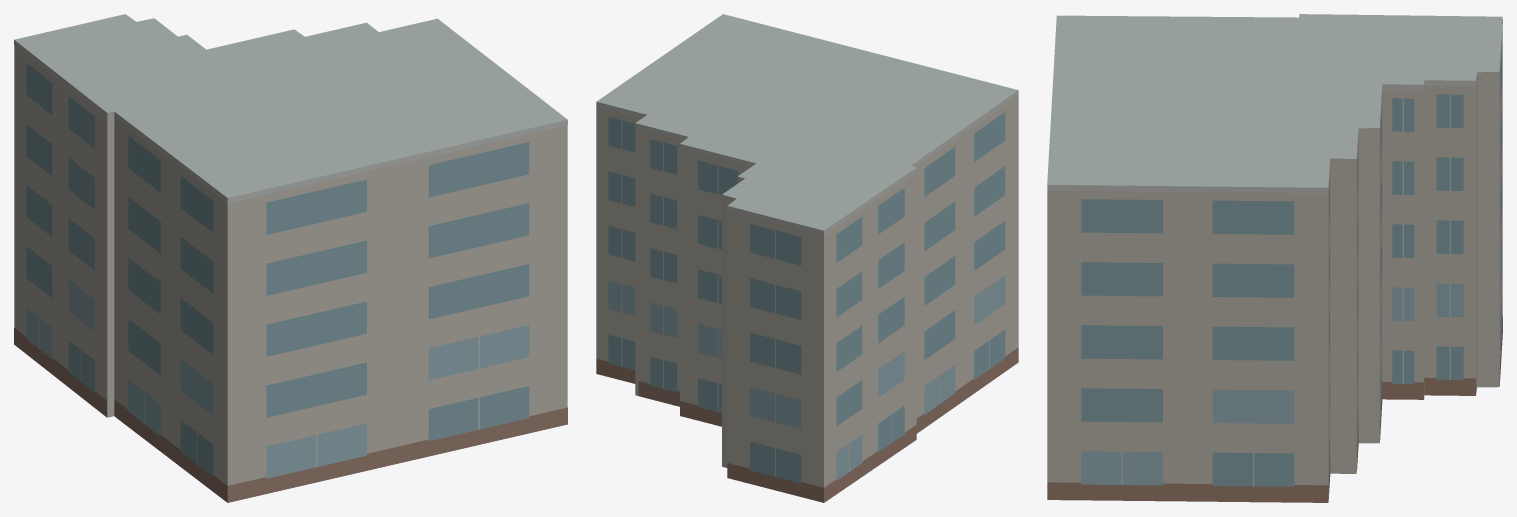
File: survey-upis-32837116.glb
3 renders of one model, left to right at view 1: azimuth 30°, elevation 25°; view 2: azimuth 150°, elevation 25°; view 3: azimuth 270°, elevation 25°, orthographic. The views are drawn at different scales.
Parts seen in each view (by area): view 1: survey-upis-32837116.tmp; view 2: survey-upis-32837116.tmp; view 3: survey-upis-32837116.tmp.
Boxes of the visible parts, box(x1,y1,x2,y2) form: survey-upis-32837116.tmp: box(14, 14, 567, 502); survey-upis-32837116.tmp: box(596, 14, 1018, 502); survey-upis-32837116.tmp: box(1047, 14, 1502, 502).
Size of the model in its own units: 15.74 by 13.3 by 17.44.
